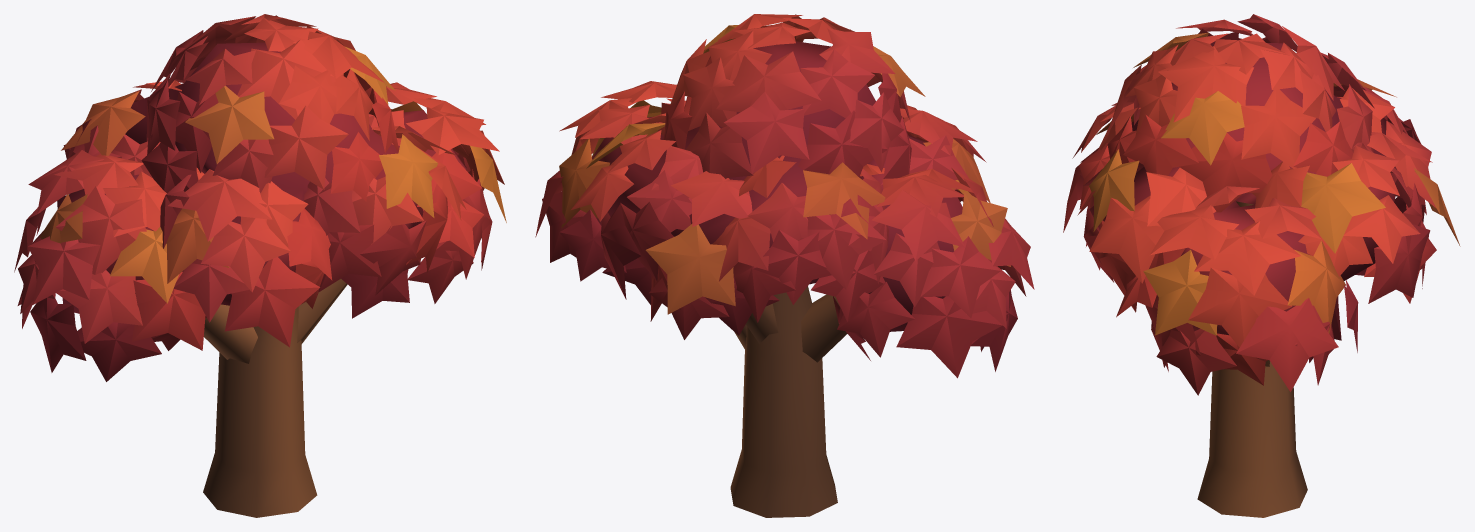
File: Autumn_Tree_Remake_v3.glb
3 renders of one model, left to right at view 1: azimuth 30°, elevation 25°; view 2: azimuth 150°, elevation 25°; view 3: azimuth 270°, elevation 25°, orthographic.
Visible parts, largest first — view 1: Maple_Remake; view 2: Maple_Remake; view 3: Maple_Remake.
Part boxes in pixels (x1,y1,x2,y2): Maple_Remake: [14, 14, 506, 517]; Maple_Remake: [535, 14, 1034, 517]; Maple_Remake: [1063, 14, 1460, 517].
Bounding box in the file's own units: 4.95 × 4.67 × 3.67.
